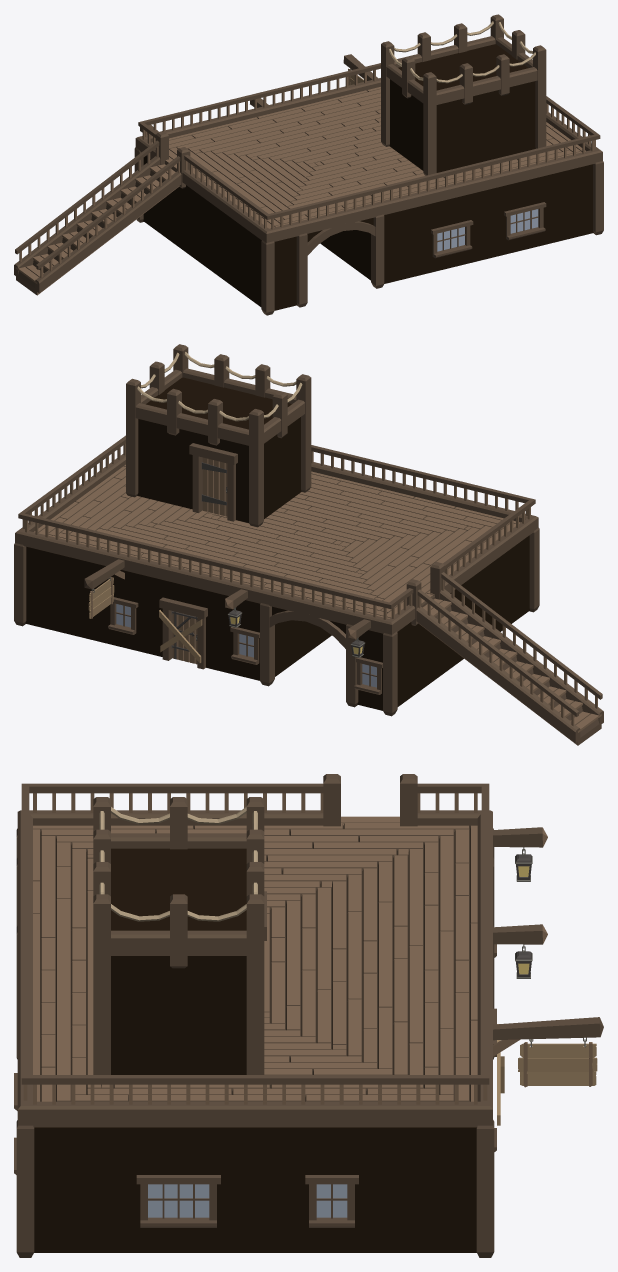
Rendered from WoodVillageHouseOne.fbx.
The picture shows the model from 3 angles, top to bottom: view 1: azimuth 30°, elevation 25°; view 2: azimuth 150°, elevation 25°; view 3: azimuth 270°, elevation 25°; orthographic projection. The views are drawn at different scales.
Visible parts, largest first — view 1: mergedBlocks; view 2: mergedBlocks; view 3: mergedBlocks.
Part boxes in pixels (left/top/right/bottom): mergedBlocks: left=14, top=14, right=603, bottom=315; mergedBlocks: left=14, top=344, right=603, bottom=745; mergedBlocks: left=14, top=774, right=603, bottom=1257.
Size of the model in its own units: 132 by 49.06 by 76.98.
